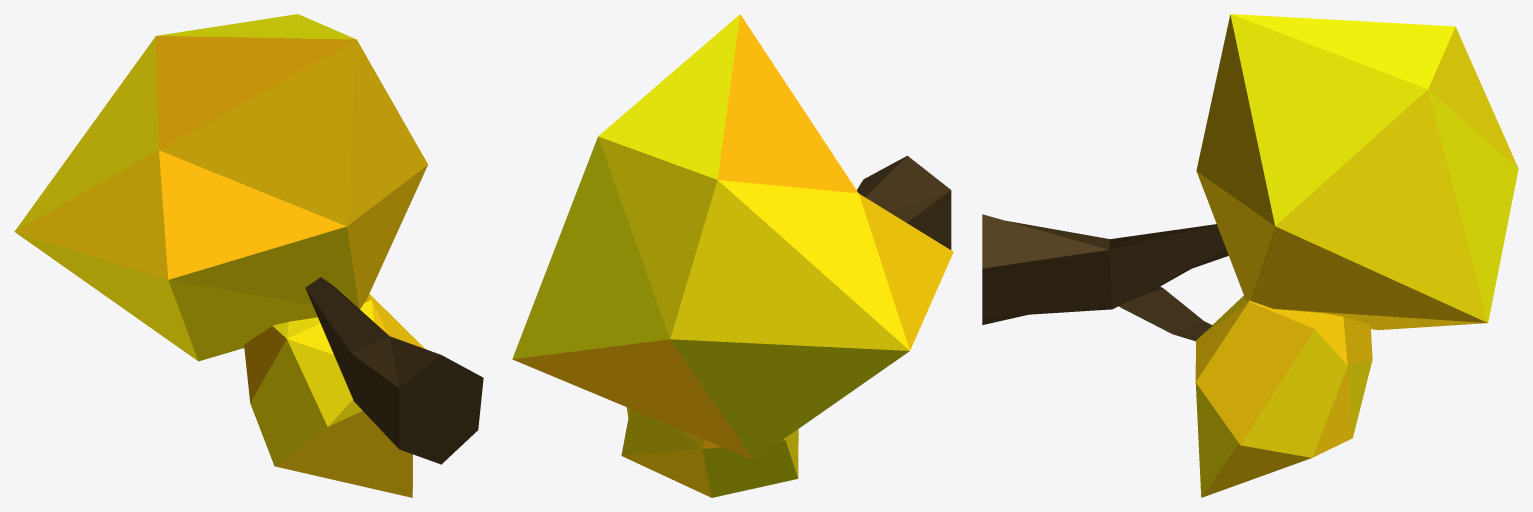
Rendered from tree_12.fbx.
3 views of the same model, side by side, from view 1: azimuth 30°, elevation 25°; view 2: azimuth 150°, elevation 25°; view 3: azimuth 270°, elevation 25° (orthographic). The views are drawn at different scales.
Parts seen in each view (by area): view 1: tree_12; view 2: tree_12; view 3: tree_12.
Boxes of the visible parts, x1,y1,x2,y2 form: tree_12: (14, 14, 483, 497); tree_12: (512, 14, 953, 497); tree_12: (982, 14, 1518, 497).
Size of the model in its own units: 96 by 116 by 122.
